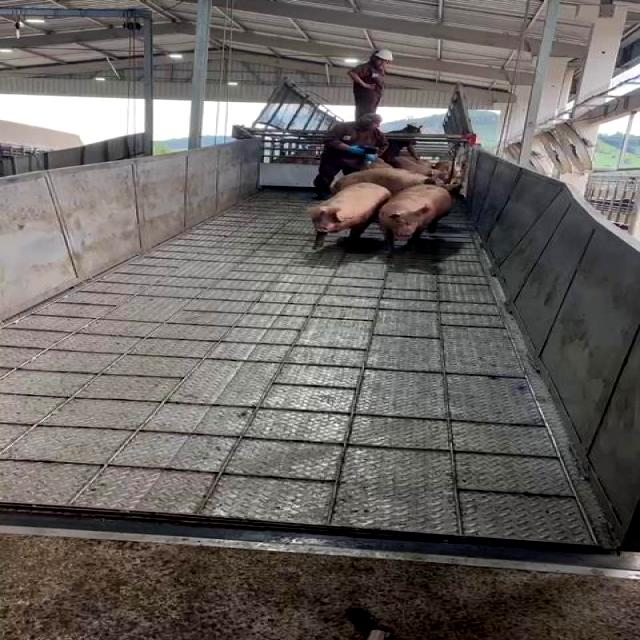pig: (310, 183, 391, 248), (379, 185, 451, 249), (330, 168, 431, 194)
